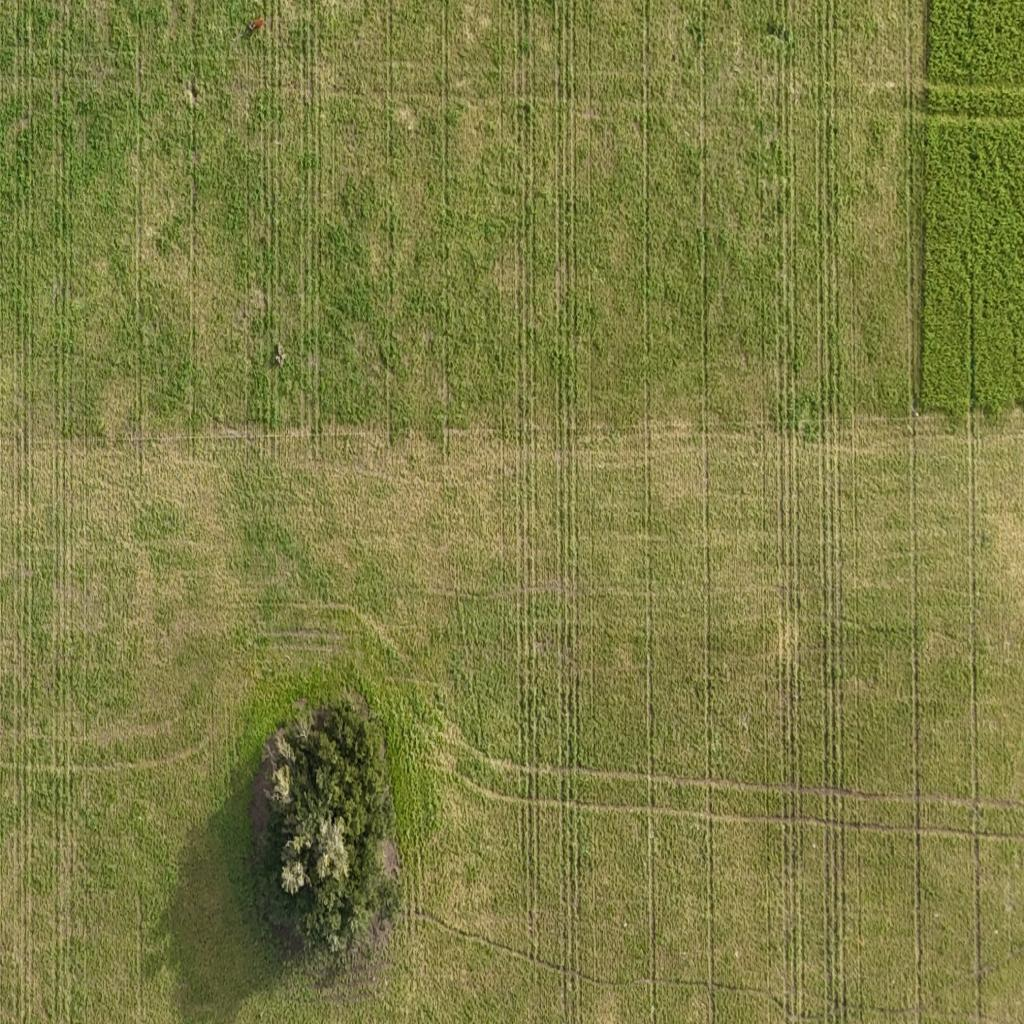cow: (244, 16, 266, 39)
